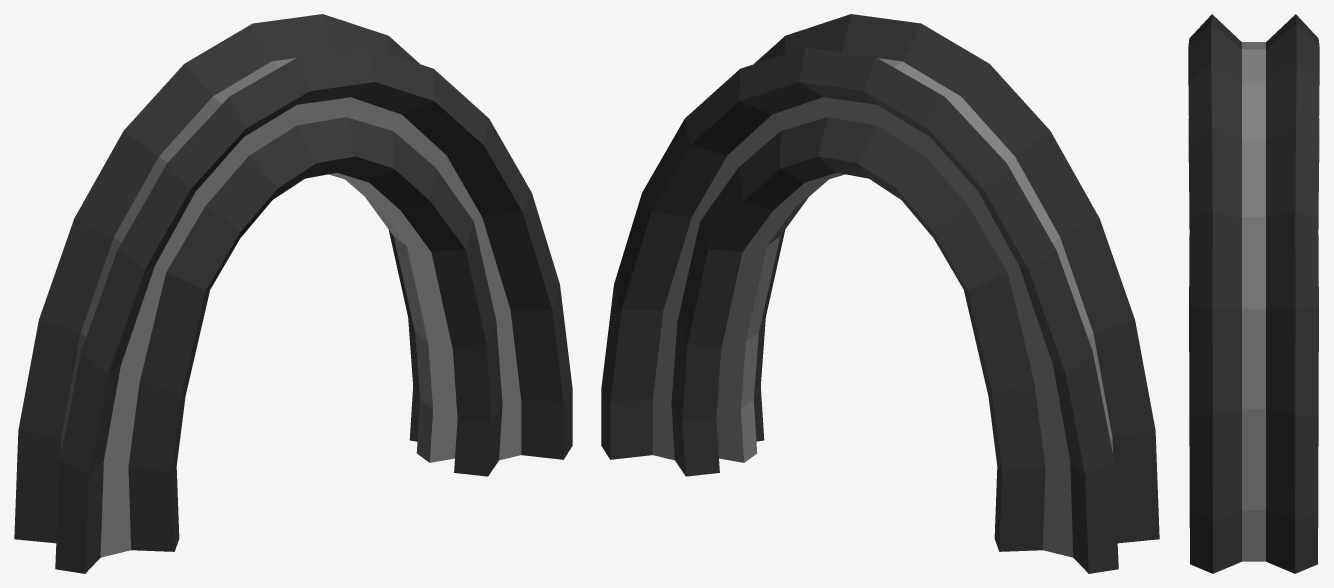
The model's file is Portal.fbx.
3 renders of one model, left to right at view 1: azimuth 30°, elevation 25°; view 2: azimuth 150°, elevation 25°; view 3: azimuth 270°, elevation 25°, orthographic. The views are drawn at different scales.
Visible parts, largest first — view 1: Portal; view 2: Portal; view 3: Portal.
Part boxes in pixels (<box>): Portal: <box>14,14,572,573</box>; Portal: <box>601,14,1159,573</box>; Portal: <box>1188,14,1319,573</box>.
Size of the model in its own units: 691 by 584 by 163.
